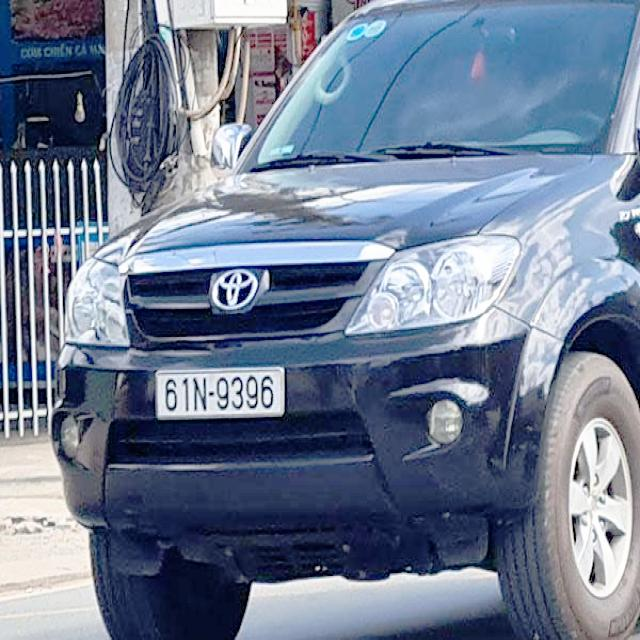license_plate: (158, 367, 284, 419)
